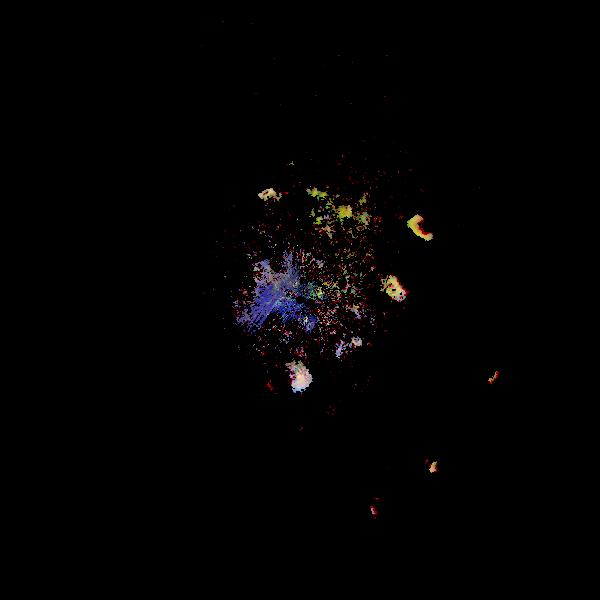roost: (379, 271, 421, 313), (408, 204, 450, 246), (284, 360, 320, 396), (257, 182, 281, 206), (367, 502, 382, 517), (426, 460, 441, 475), (349, 334, 364, 349)
